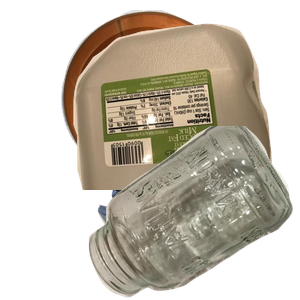glass: (86, 126, 300, 300)
metal: (58, 10, 289, 186)
plastic: (71, 21, 300, 201)
trash: (95, 157, 282, 300)
